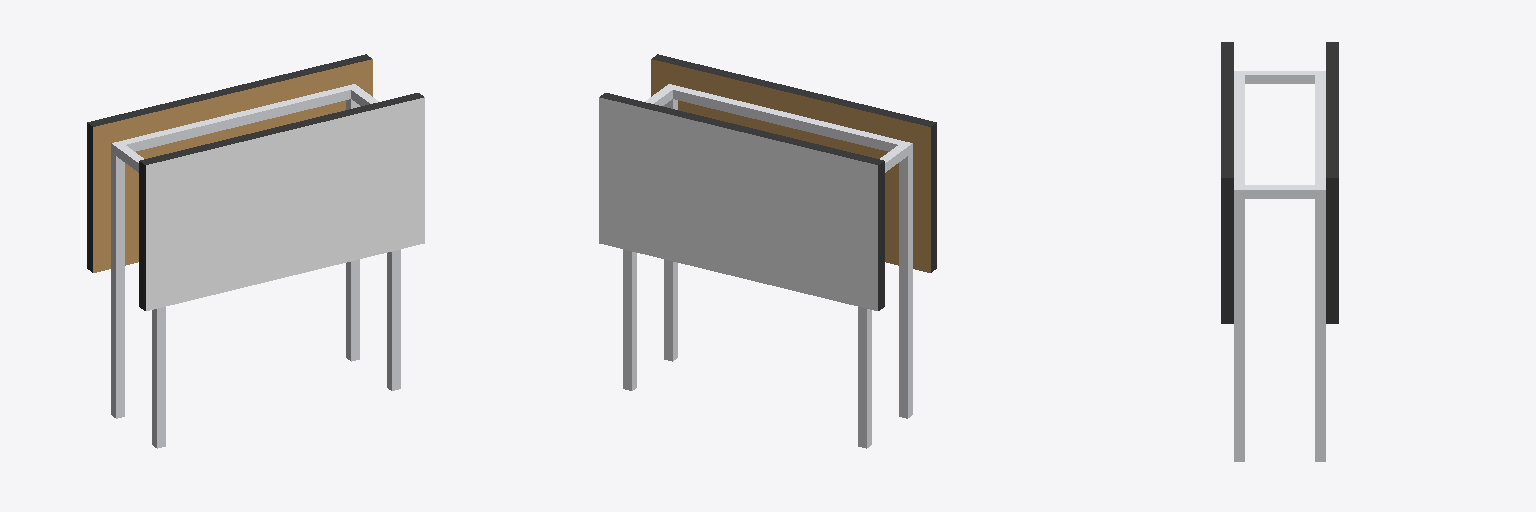
File: billboardDouble_exclusive.obj
3 renders of one model, left to right at view 1: azimuth 30°, elevation 25°; view 2: azimuth 150°, elevation 25°; view 3: azimuth 270°, elevation 25°, orthographic.
Parts seen in each view (by area): view 1: billboardDouble_exclusive; view 2: billboardDouble_exclusive; view 3: billboardDouble_exclusive.
Boxes of the visible parts, box(x1,y1,x2,y2) form: billboardDouble_exclusive: box(87, 54, 424, 448); billboardDouble_exclusive: box(599, 54, 936, 448); billboardDouble_exclusive: box(1221, 42, 1338, 461).
Bounding box in the file's own units: 1 × 1 × 0.3638.